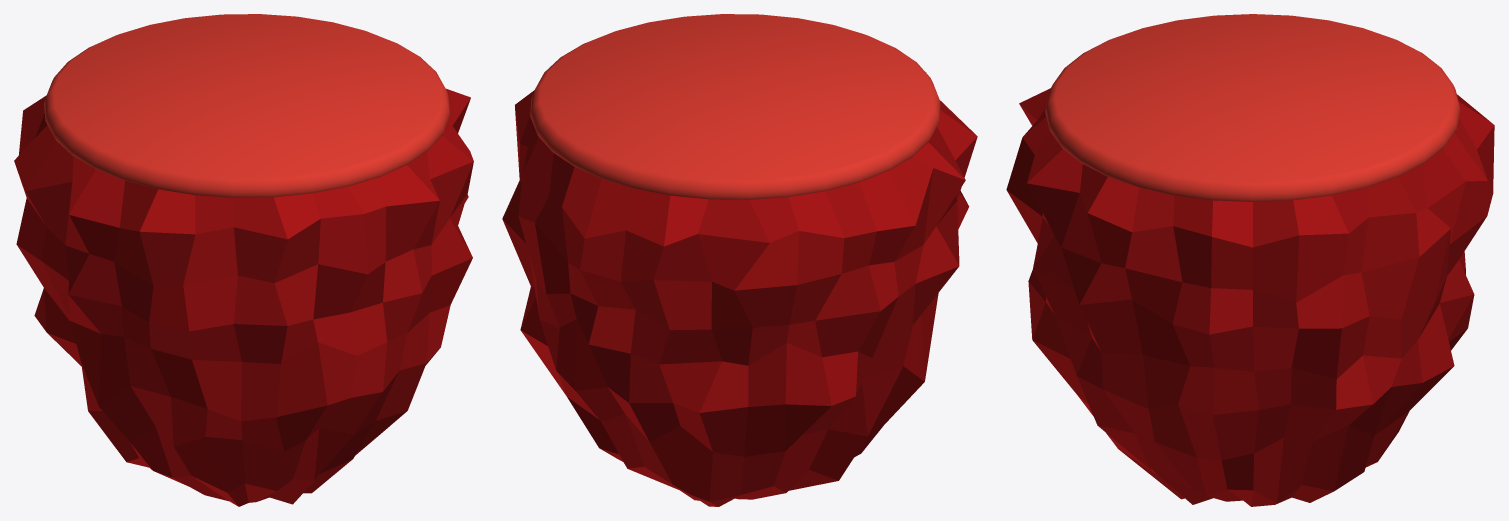
Rendered from island5_Red.fbx.
3 views of the same model, side by side, from view 1: azimuth 30°, elevation 25°; view 2: azimuth 150°, elevation 25°; view 3: azimuth 270°, elevation 25° (orthographic). The views are drawn at different scales.
Parts seen in each view (by area): view 1: island(5); view 2: island(5); view 3: island(5).
Boxes of the visible parts, x1,y1,x2,y2 form: island(5): (14, 14, 473, 506); island(5): (502, 14, 977, 506); island(5): (1006, 14, 1494, 506).
Bounding box in the file's own units: 35.51 × 31.92 × 36.15.
1 material, 1 textured.
